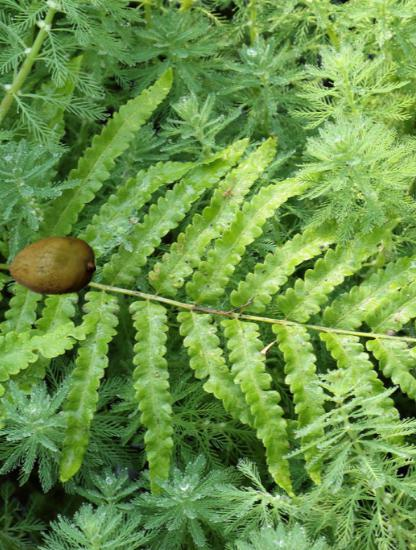Papaya: (9, 222, 96, 309)
